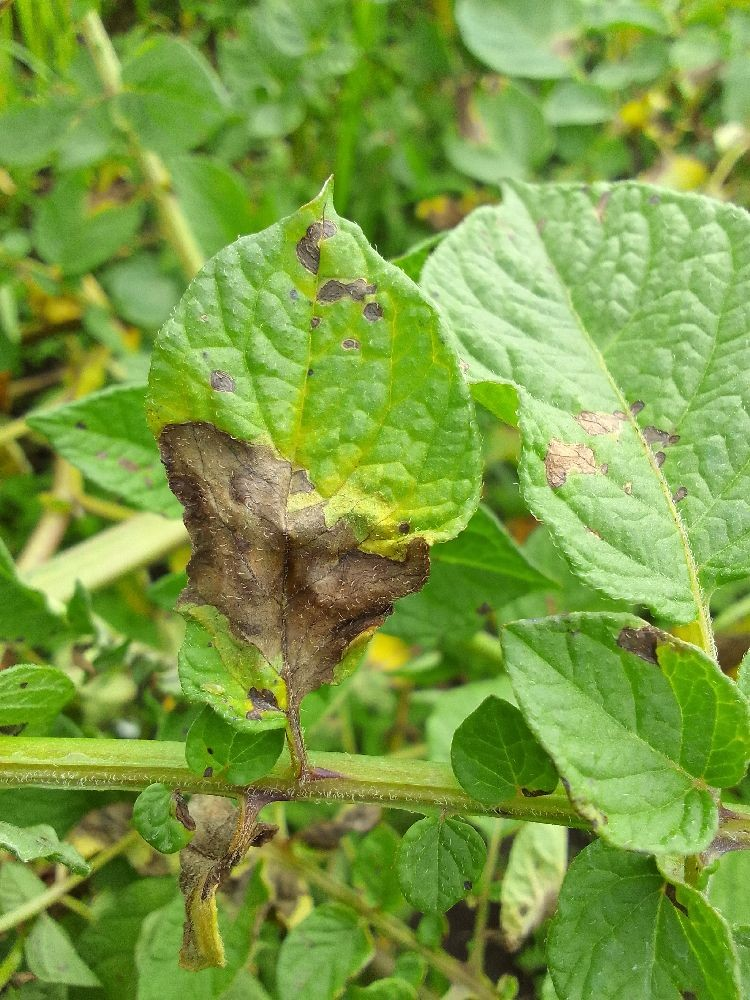late_blight: (121, 404, 448, 977), (424, 874, 570, 1000), (0, 278, 99, 439), (61, 791, 144, 866)
